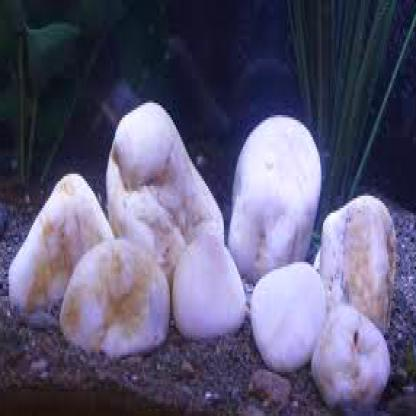Metamorphic_Quartize: (103, 86, 220, 266), (230, 108, 330, 279), (5, 162, 110, 313), (61, 237, 170, 372), (317, 186, 412, 325), (166, 228, 249, 352), (249, 257, 339, 365), (304, 301, 397, 404)
